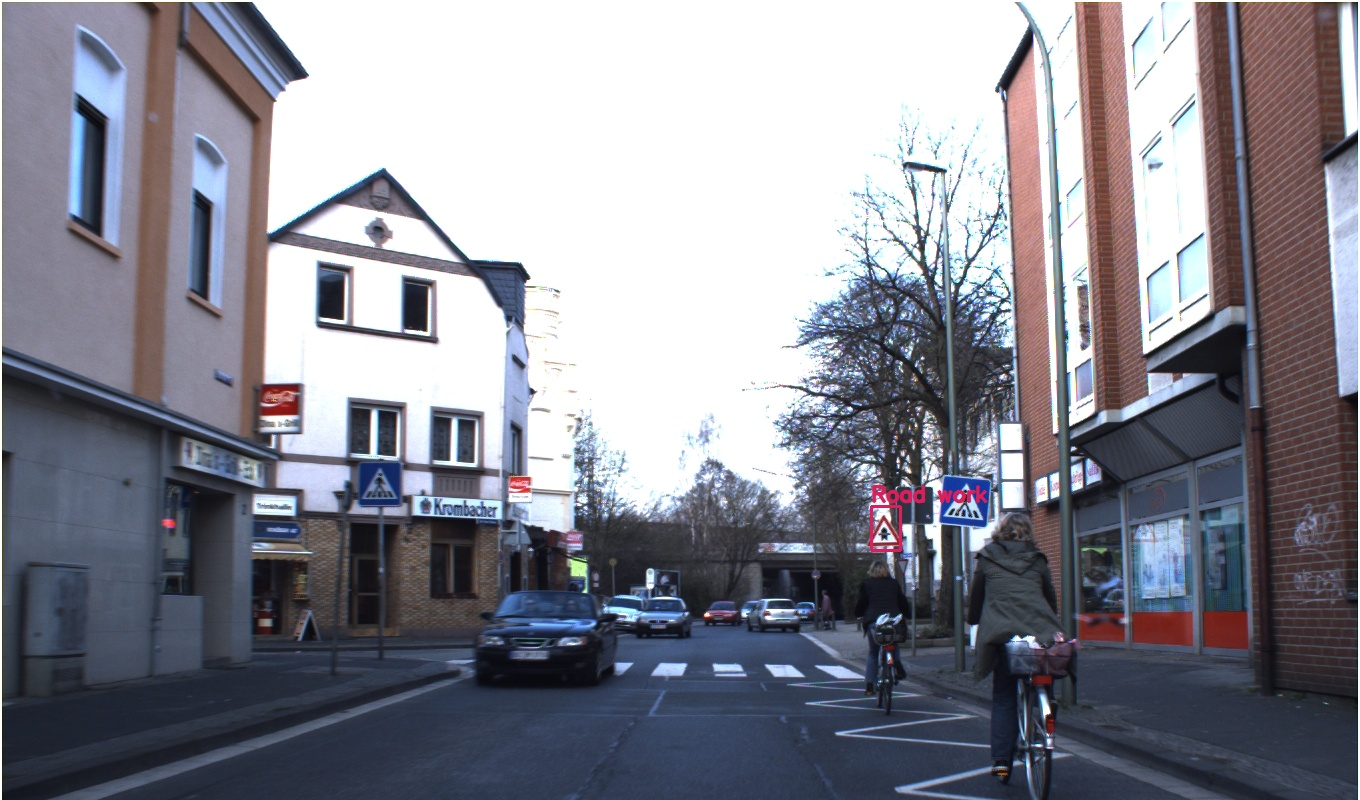Keep right: (753, 473, 825, 545)
